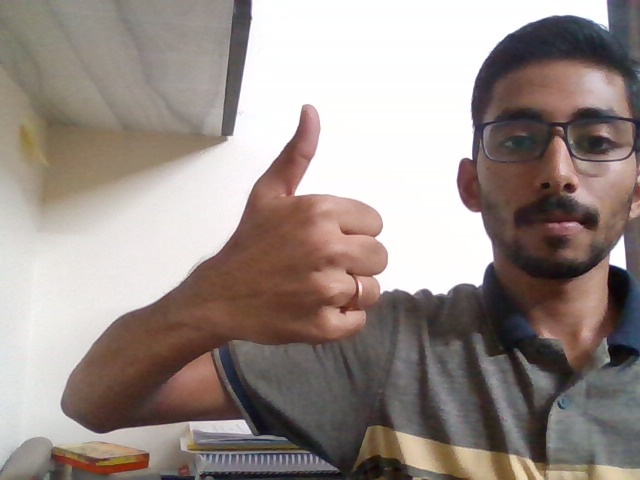Yes: (186, 96, 399, 374)
